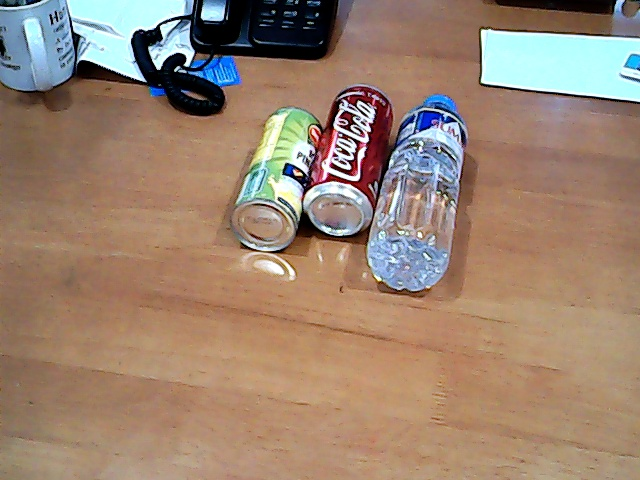Cola: (301, 61, 400, 244)
Pine Juice: (227, 92, 322, 262)
Summit Water: (365, 74, 478, 304)
